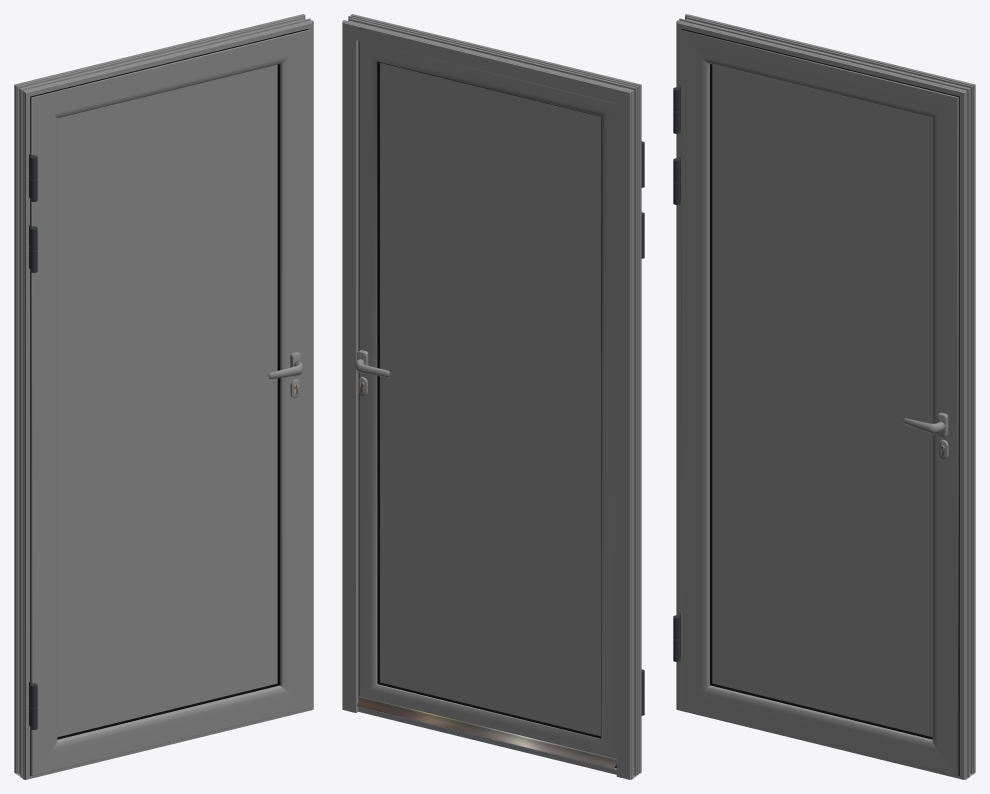
3 views of the same model, side by side, from view 1: azimuth 30°, elevation 25°; view 2: azimuth 150°, elevation 25°; view 3: azimuth 330°, elevation 25° (orthographic).
Visible parts, largest first — view 1: painel, aroMovel, aroFixo, borracha, soleira; view 2: painel, aroFixo, aroMovel, borracha, escova, soleira; view 3: painel, aroMovel, aroFixo, borracha, soleira.
Boxes of the visible parts, x1,y1,x2,y2 form: painel: (57,64,277,737); aroMovel: (31,29,308,775); aroFixo: (14,14,313,779); borracha: (30,28,308,776); soleira: (31,709,307,778); painel: (380,63,600,736); aroFixo: (342,14,641,779); aroMovel: (359,41,616,758); borracha: (358,41,616,768); escova: (357,696,616,768); soleira: (358,706,616,774); painel: (712,64,932,737); aroMovel: (681,29,958,775); aroFixo: (676,14,975,779); borracha: (681,28,959,775); soleira: (682,709,958,778).
Size of the model in its own units: 960 by 2180 by 168.
Materials: 8 (4 with a texture image).
